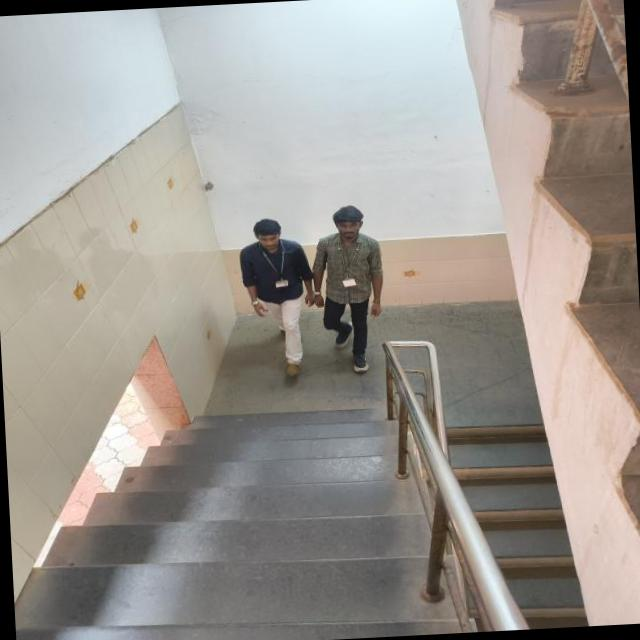id_card: (338, 242, 362, 292), (268, 240, 290, 289)
